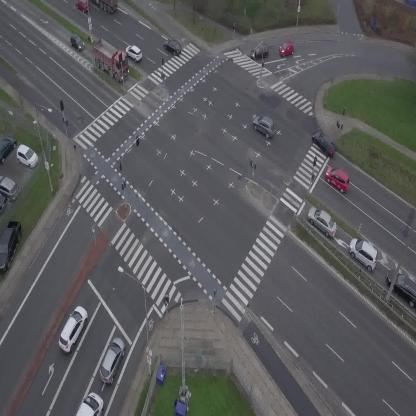car: (53, 303, 92, 354), (96, 335, 130, 386), (343, 234, 384, 272), (303, 203, 343, 240), (309, 126, 341, 159), (321, 164, 355, 194), (249, 111, 280, 140), (65, 32, 87, 54), (124, 41, 145, 63), (161, 37, 184, 57), (277, 41, 296, 57), (249, 44, 269, 59), (76, 0, 89, 13)
lorry: (83, 33, 138, 85), (75, 392, 103, 416), (92, 0, 118, 12)
